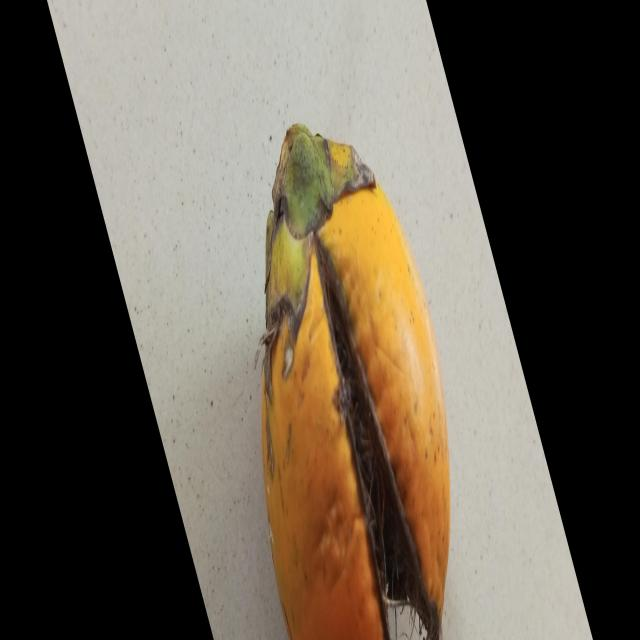damaged: (261, 126, 451, 640)
